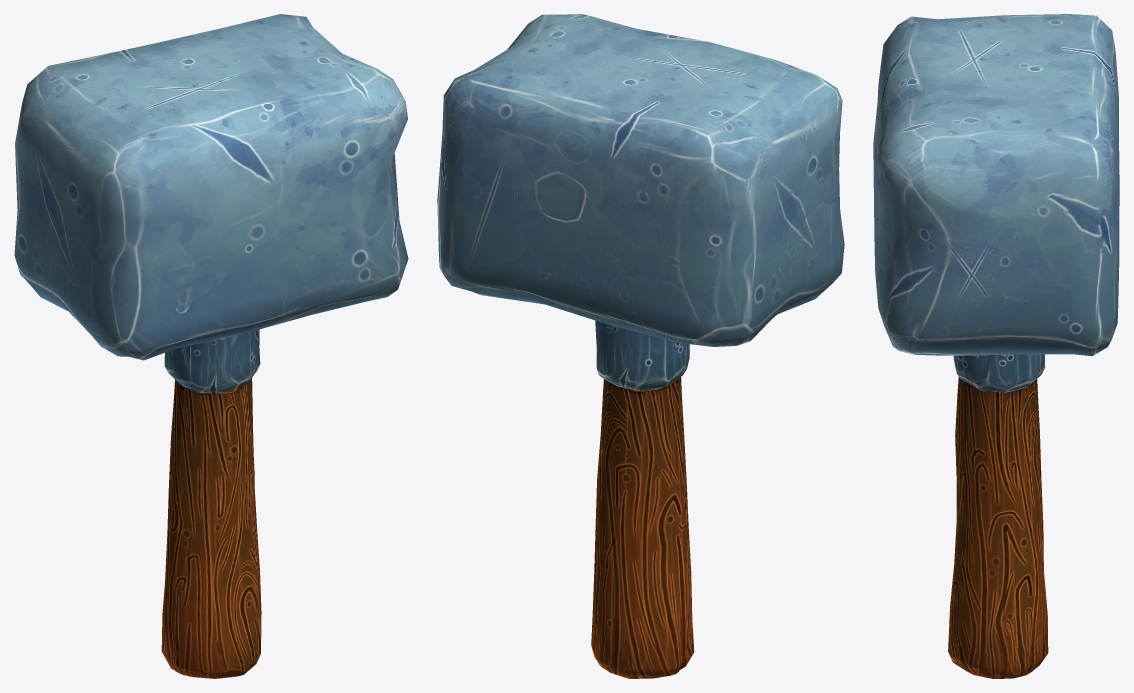
The model's file is Hammer.fbx.
3 views of the same model, side by side, from view 1: azimuth 30°, elevation 25°; view 2: azimuth 150°, elevation 25°; view 3: azimuth 270°, elevation 25° (orthographic).
Visible parts, largest first — view 1: hammer; view 2: hammer; view 3: hammer.
Part boxes in pixels (box(x1,y1,x2,y2)): hammer: box(14, 14, 408, 678); hammer: box(437, 14, 844, 678); hammer: box(873, 14, 1119, 678).
Size of the model in its own units: 159 by 289 by 109.
